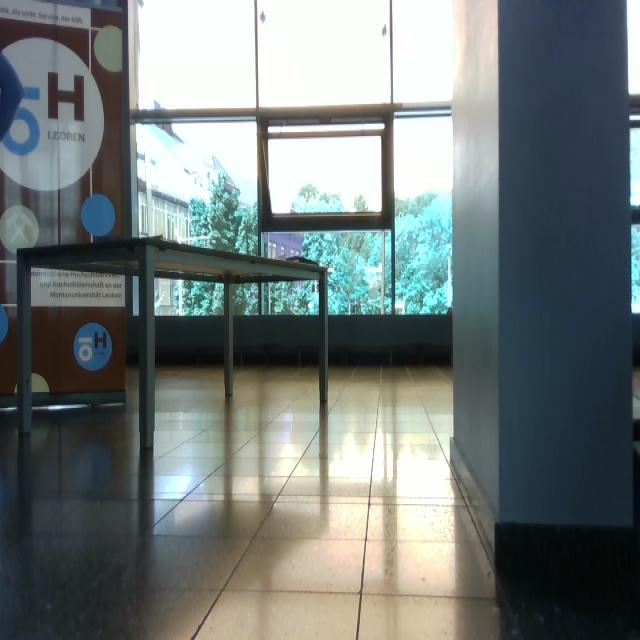door: (0, 0, 131, 408)
light bulb: (0, 50, 24, 142), (0, 204, 39, 253), (80, 192, 115, 236), (93, 24, 122, 73)
pillar: (449, 0, 635, 555)
table: (13, 234, 333, 454)
tiled floor: (1, 362, 501, 638)
window: (128, 0, 454, 319)
